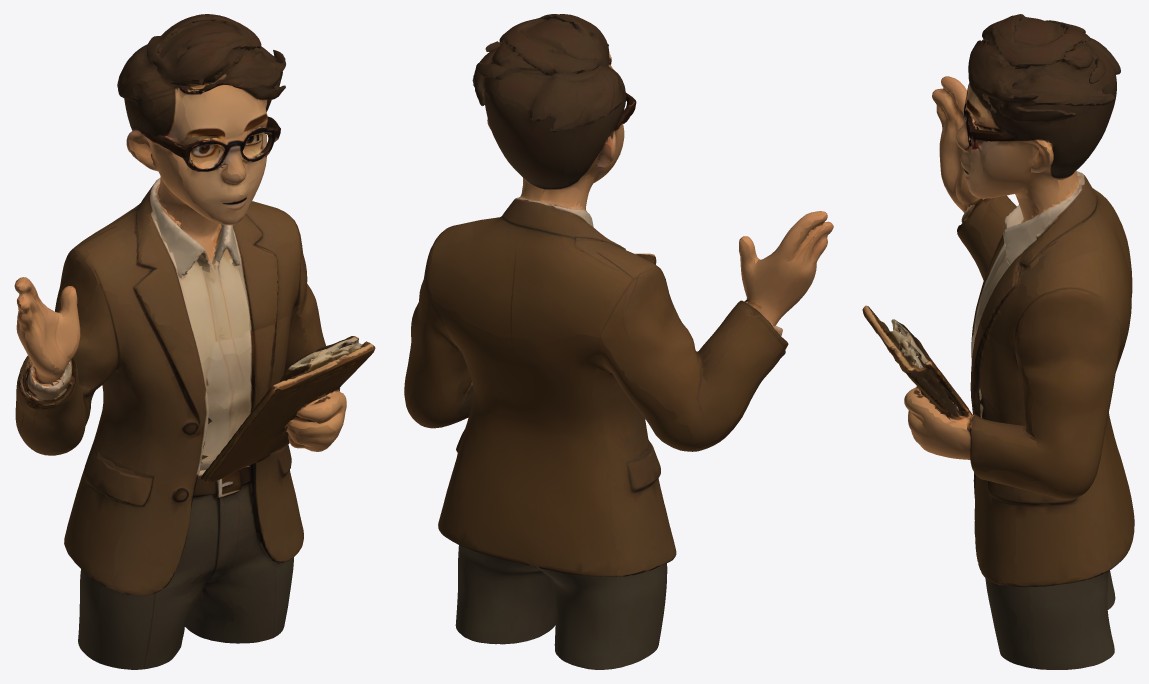
The picture shows the model from 3 angles, left to right: view 1: azimuth 30°, elevation 25°; view 2: azimuth 150°, elevation 25°; view 3: azimuth 270°, elevation 25°; orthographic projection. The views are drawn at different scales.
Parts seen in each view (by area): view 1: textured_mesh.obj; view 2: textured_mesh.obj; view 3: textured_mesh.obj.
Boxes of the visible parts, x1=… form: textured_mesh.obj: x1=14, y1=14, x2=375, y2=669; textured_mesh.obj: x1=404, y1=14, x2=833, y2=669; textured_mesh.obj: x1=862, y1=14, x2=1134, y2=669.
Size of the model in its own units: 1.26 by 1.99 by 0.8019.
Materials: 1 (1 with a texture image).
